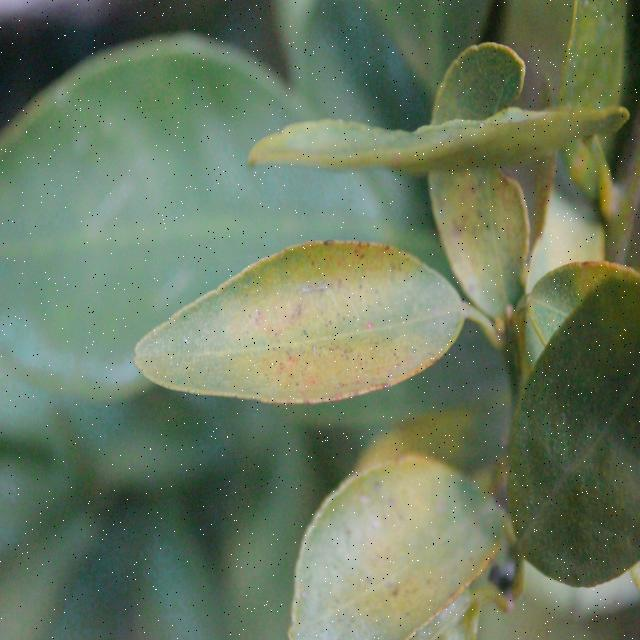blackspot: (164, 224, 440, 422)
